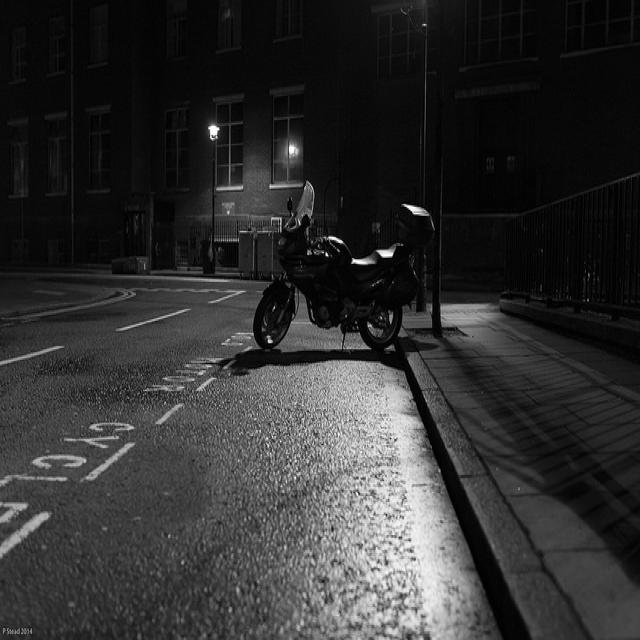Motorbike: (267, 199, 437, 430)
